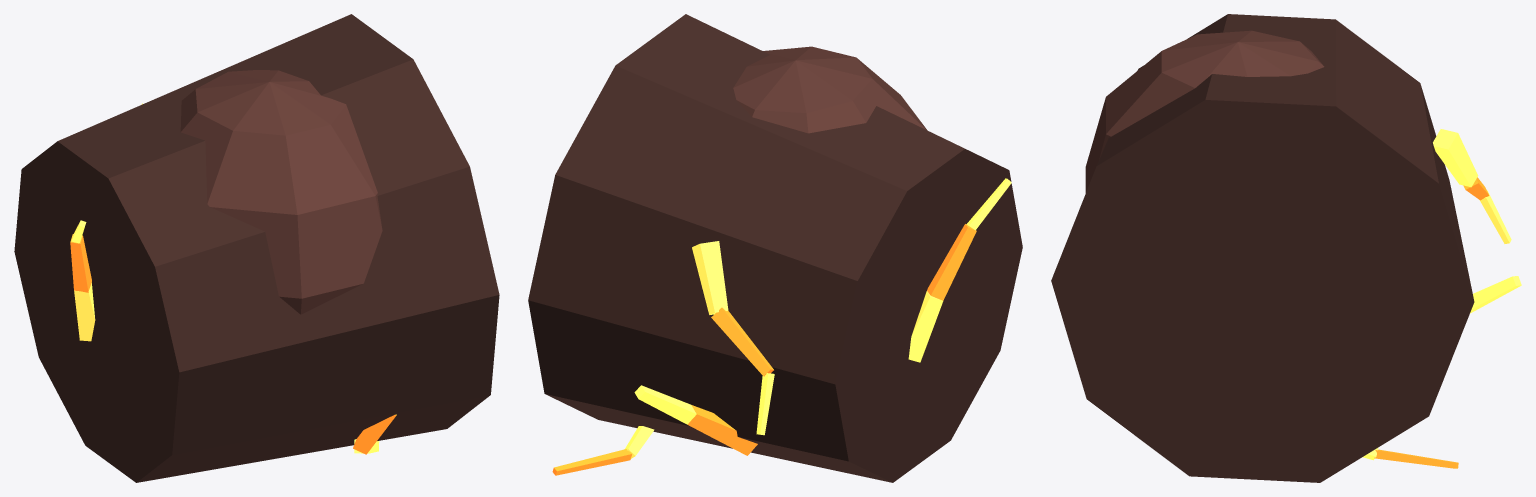
File: ember_thane_arm_r.glb
3 renders of one model, left to right at view 1: azimuth 30°, elevation 25°; view 2: azimuth 150°, elevation 25°; view 3: azimuth 270°, elevation 25°, orthographic.
Visible parts, largest first — view 1: ember_thane_arm_r; view 2: ember_thane_arm_r; view 3: ember_thane_arm_r.
Part boxes in pixels (bbox=[...]): ember_thane_arm_r: bbox=[14, 14, 499, 482]; ember_thane_arm_r: bbox=[528, 14, 1022, 482]; ember_thane_arm_r: bbox=[1051, 14, 1521, 482].
Bounding box in the file's own units: 0.3301 × 0.3375 × 0.3775.
